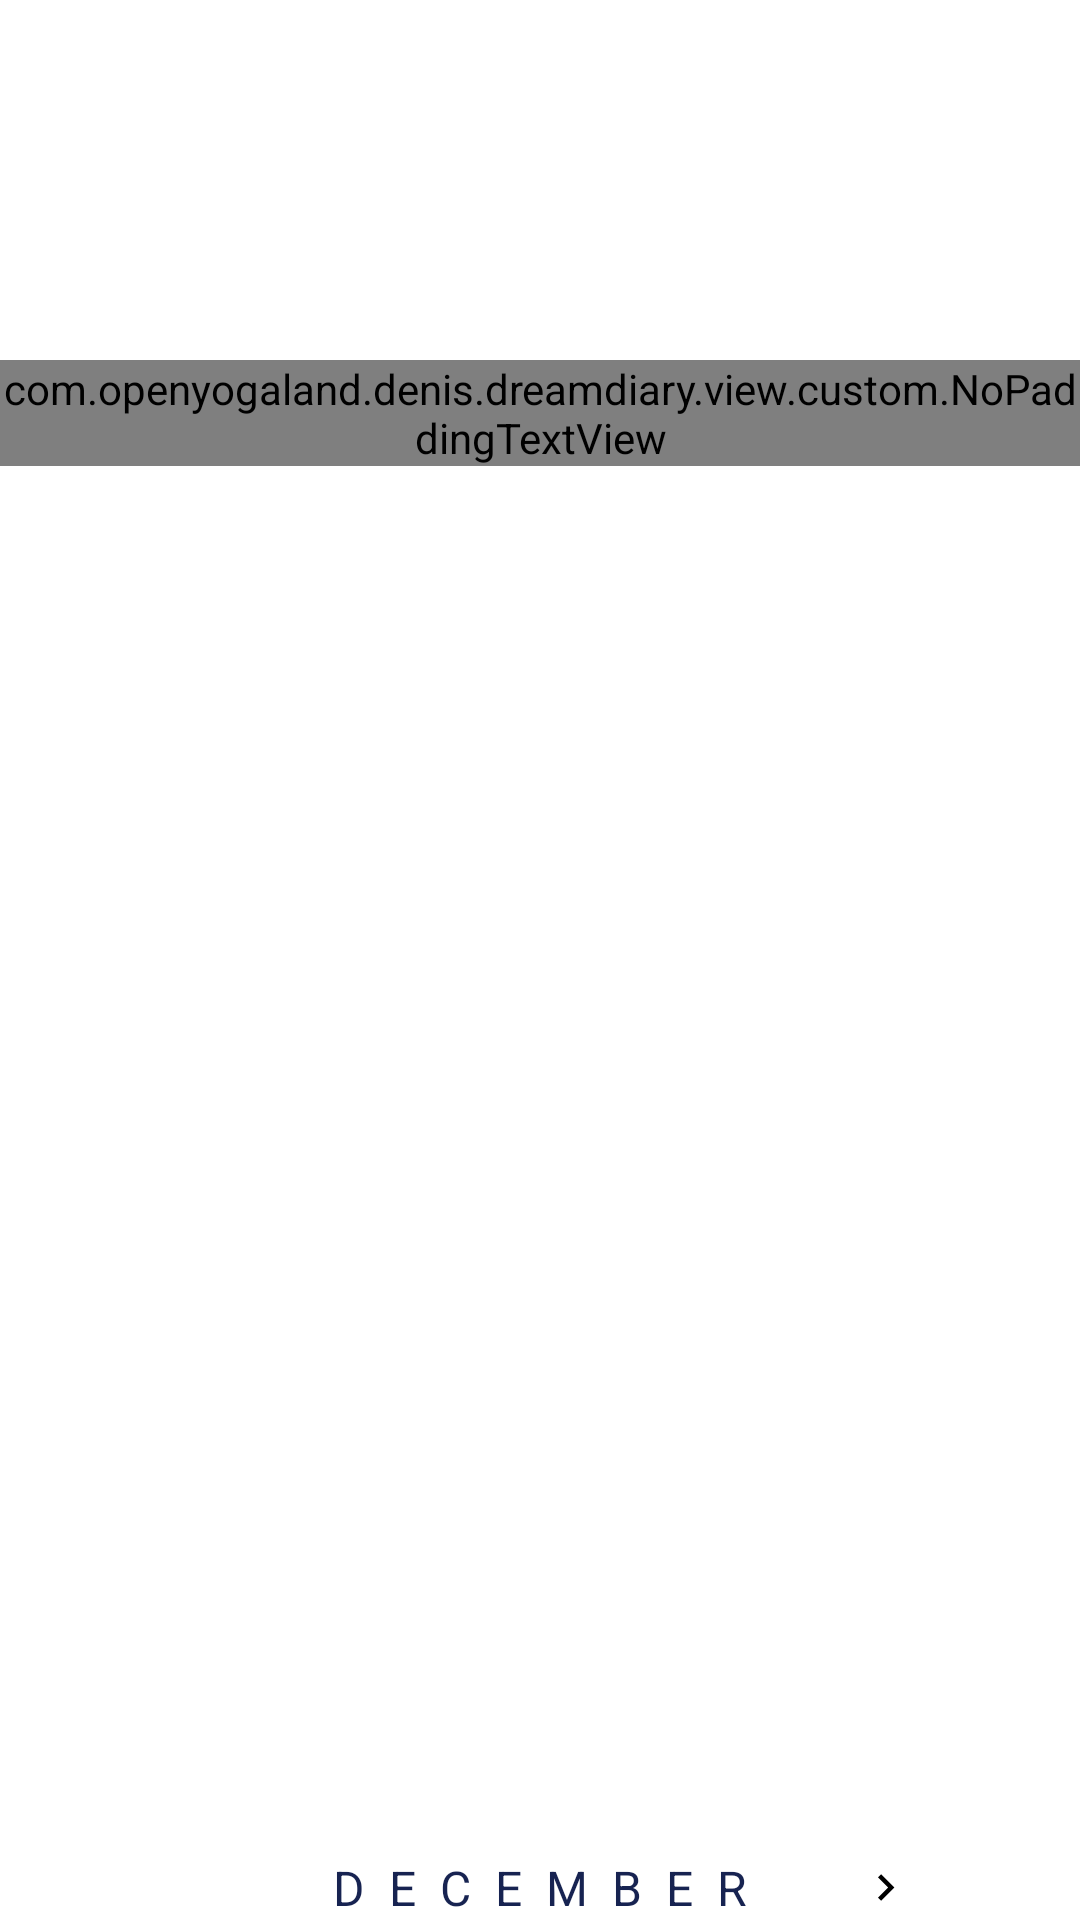

Named icons in this screenshot (1080px×1920px) and their centers, (x,y):
arrow right: (886,1887)
